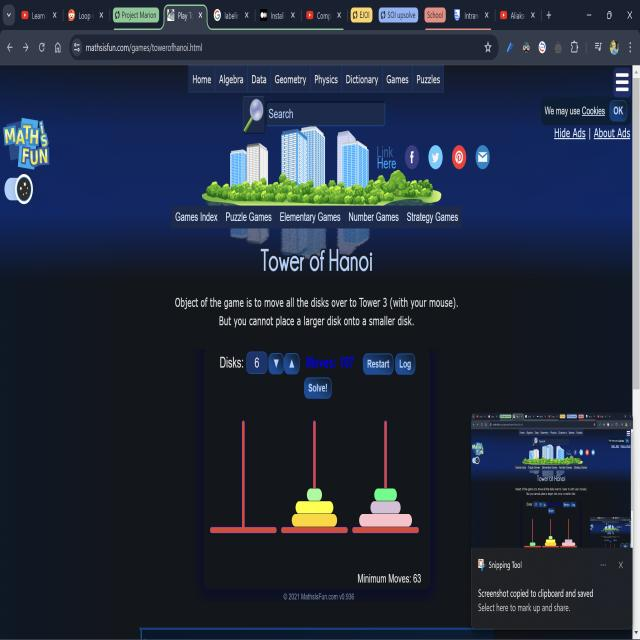disk1: (307, 488, 322, 501)
disk2: (374, 489, 397, 501)
disk3: (370, 501, 401, 514)
disk4: (296, 501, 334, 513)
disk5: (292, 514, 337, 527)
disk6: (359, 514, 412, 527)
